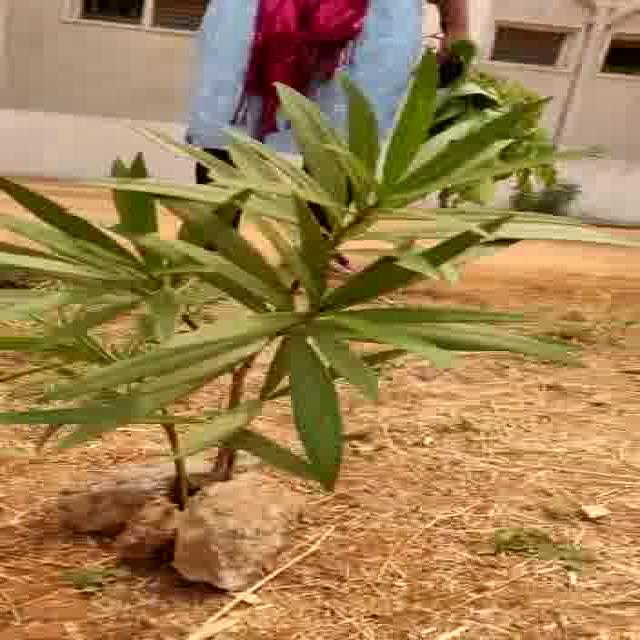Oleander: (0, 80, 559, 469)
